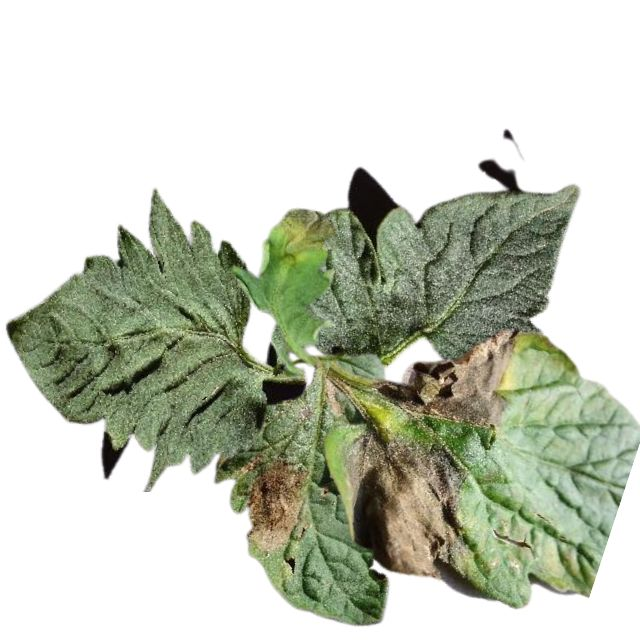Late_blight: (337, 429, 469, 578), (368, 327, 506, 430), (245, 458, 307, 558), (276, 207, 338, 260), (322, 373, 345, 416)
